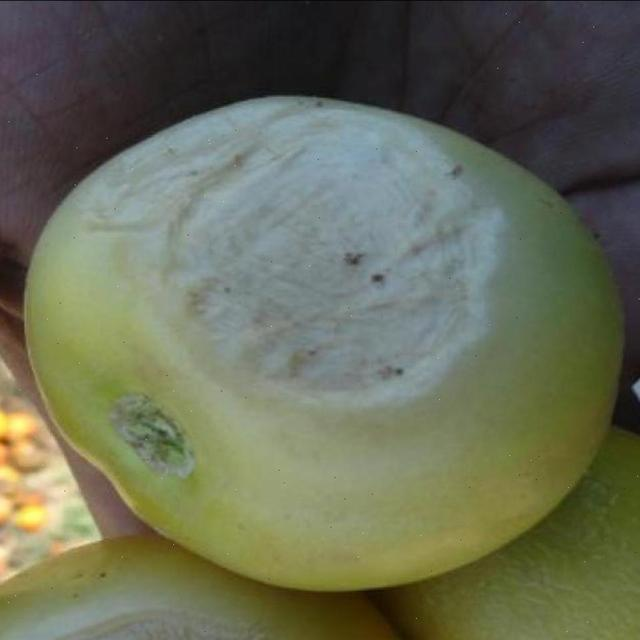Sunscald Fruit: (102, 39, 305, 407)
